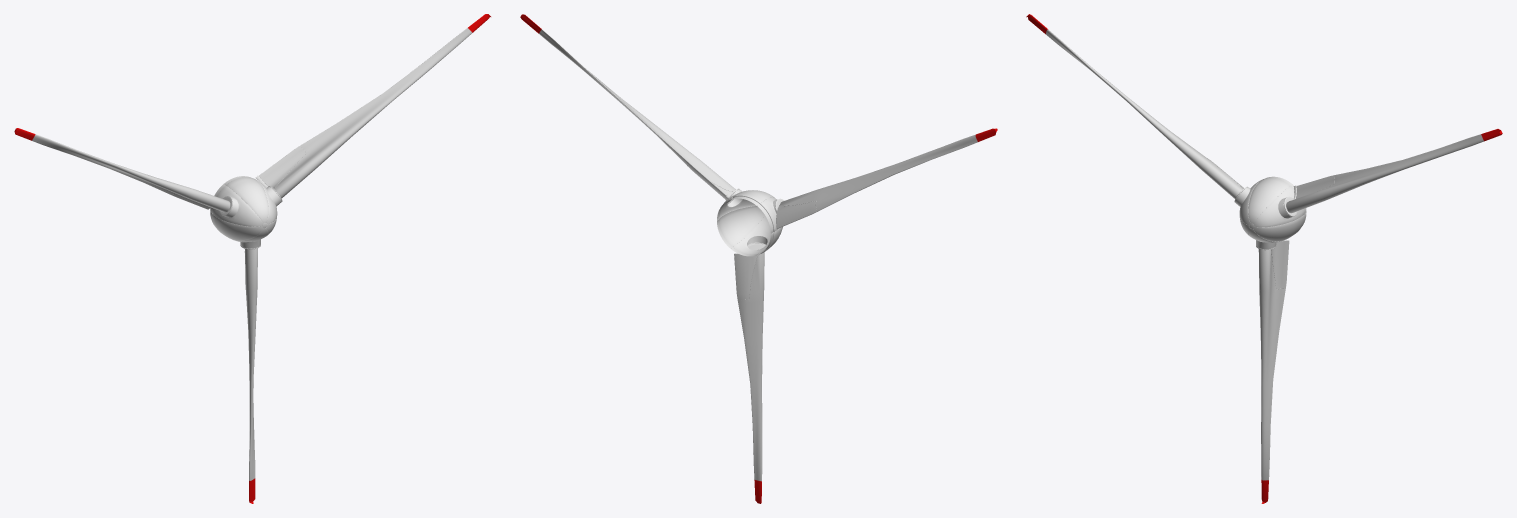
File: Rotor.glb
The picture shows the model from 3 angles, left to right: view 1: azimuth 30°, elevation 25°; view 2: azimuth 150°, elevation 25°; view 3: azimuth 330°, elevation 25°; orthographic projection.
Visible parts, largest first — view 1: Pale.001; view 2: Pale.001; view 3: Pale.001.
Boxes of the visible parts, x1,y1,x2,y2 form: Pale.001: (14, 14, 490, 503); Pale.001: (520, 14, 997, 503); Pale.001: (1026, 14, 1502, 503).
Bounding box in the file's own units: 68.41 × 59.32 × 6.93.
3 materials, 1 textured.
